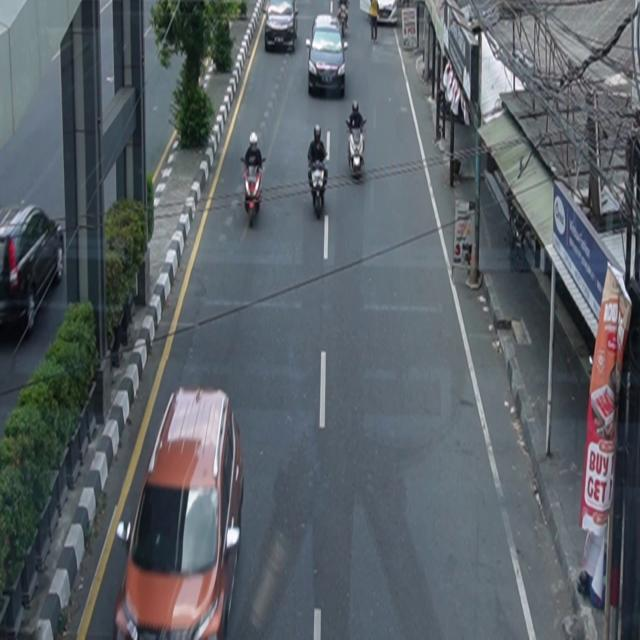bus: (115, 386, 245, 640)
car: (1, 202, 65, 335), (306, 14, 349, 99), (265, 1, 299, 54)
